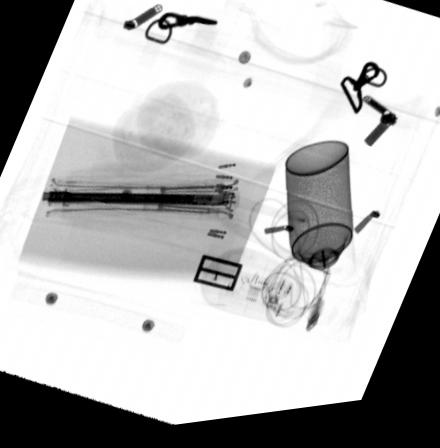Sprayer: (284, 147, 357, 302)
